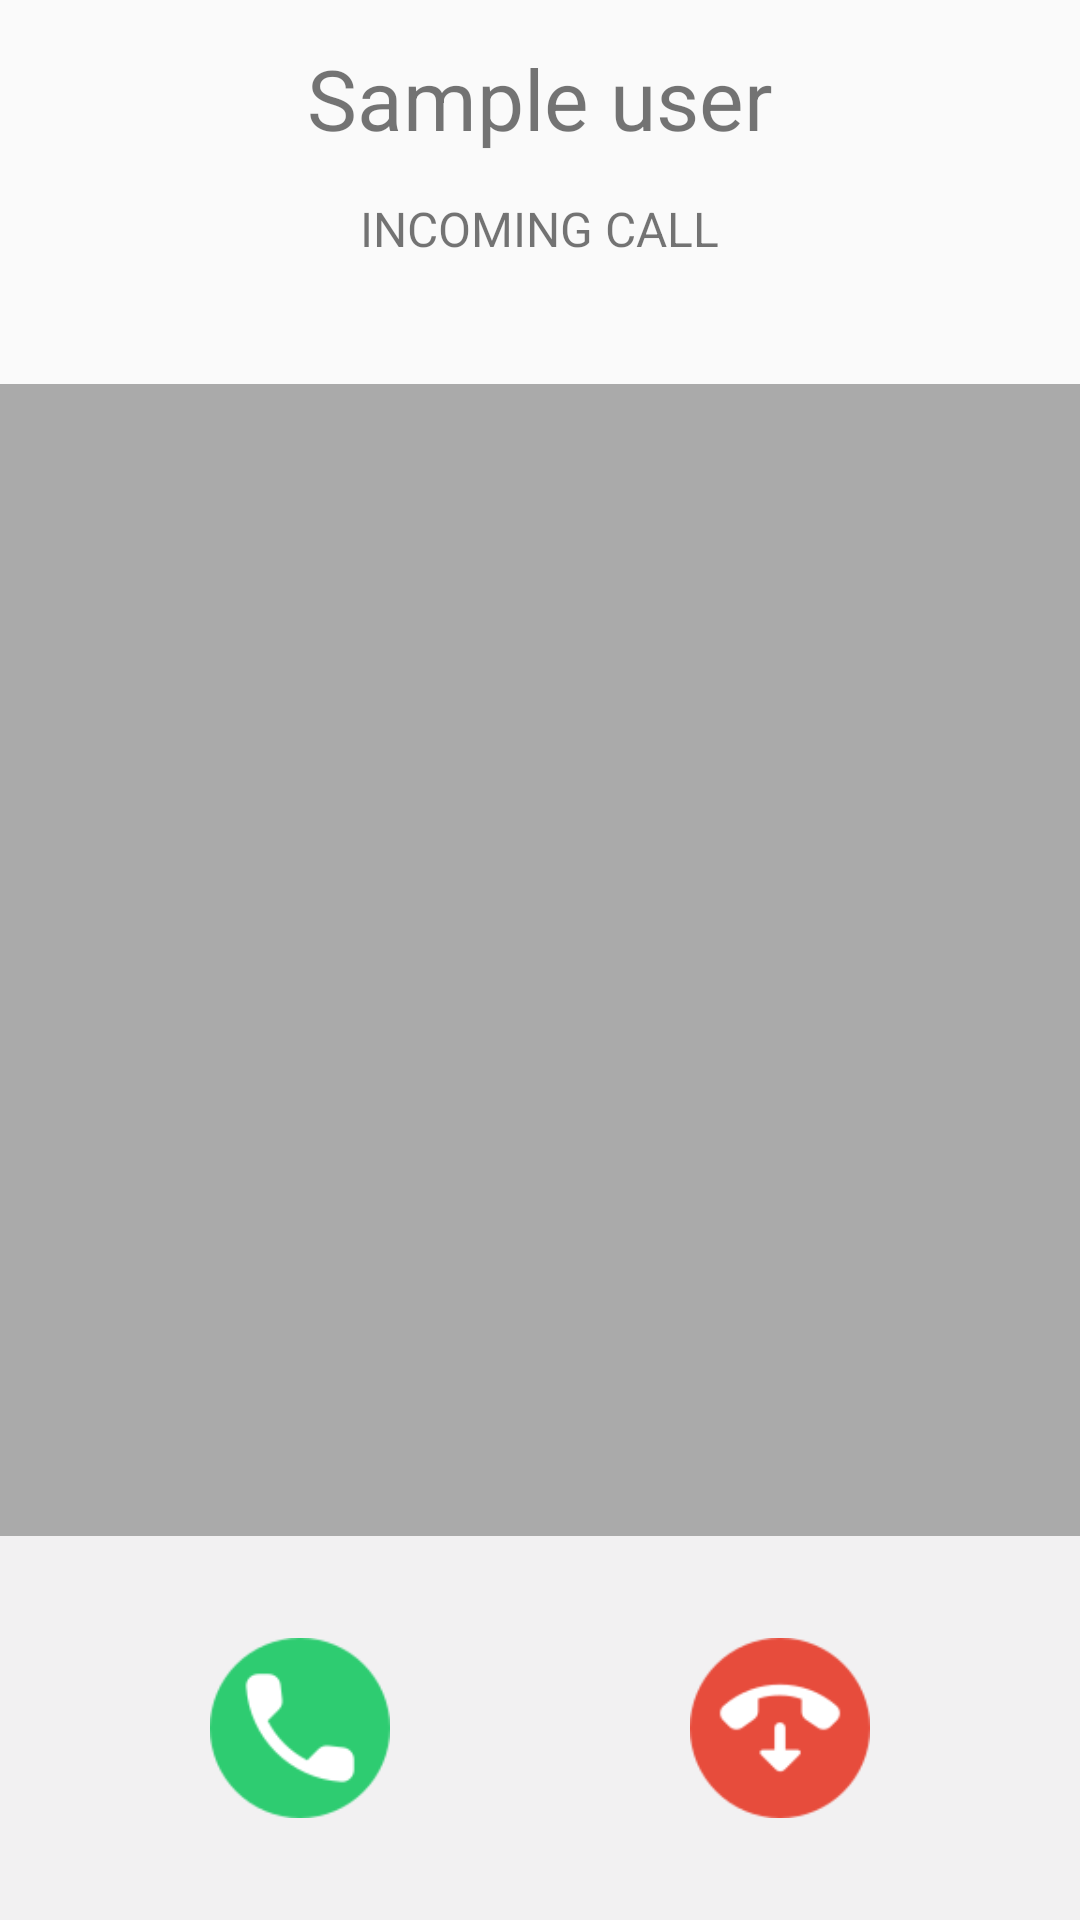

Named icons in this screenshot (1080*1920) and their centers, (x=x, y=y):
answer call: (x=300, y=1728)
end call: (x=780, y=1728)
